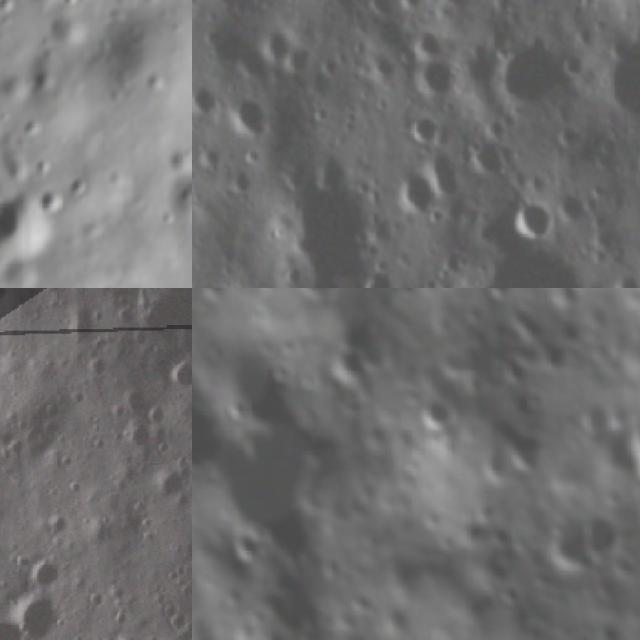crater: (493, 44, 561, 111), (575, 498, 637, 569), (5, 585, 72, 639), (500, 421, 555, 484), (0, 187, 44, 256), (404, 387, 458, 440), (472, 441, 522, 492), (411, 53, 462, 102), (393, 170, 444, 218), (223, 525, 271, 574), (328, 343, 375, 392), (148, 459, 192, 510), (572, 395, 618, 443), (62, 301, 105, 349), (510, 199, 556, 242), (24, 551, 66, 595), (283, 288, 352, 313), (462, 140, 502, 181), (233, 95, 275, 133), (119, 416, 161, 454), (488, 575, 528, 614), (407, 110, 441, 155), (76, 356, 114, 391), (622, 403, 640, 472), (166, 357, 192, 403), (218, 393, 252, 428), (355, 263, 396, 288), (0, 609, 28, 640), (478, 288, 516, 309), (194, 288, 233, 307), (192, 86, 214, 115), (45, 184, 63, 212), (197, 279, 230, 288), (0, 288, 14, 304)
